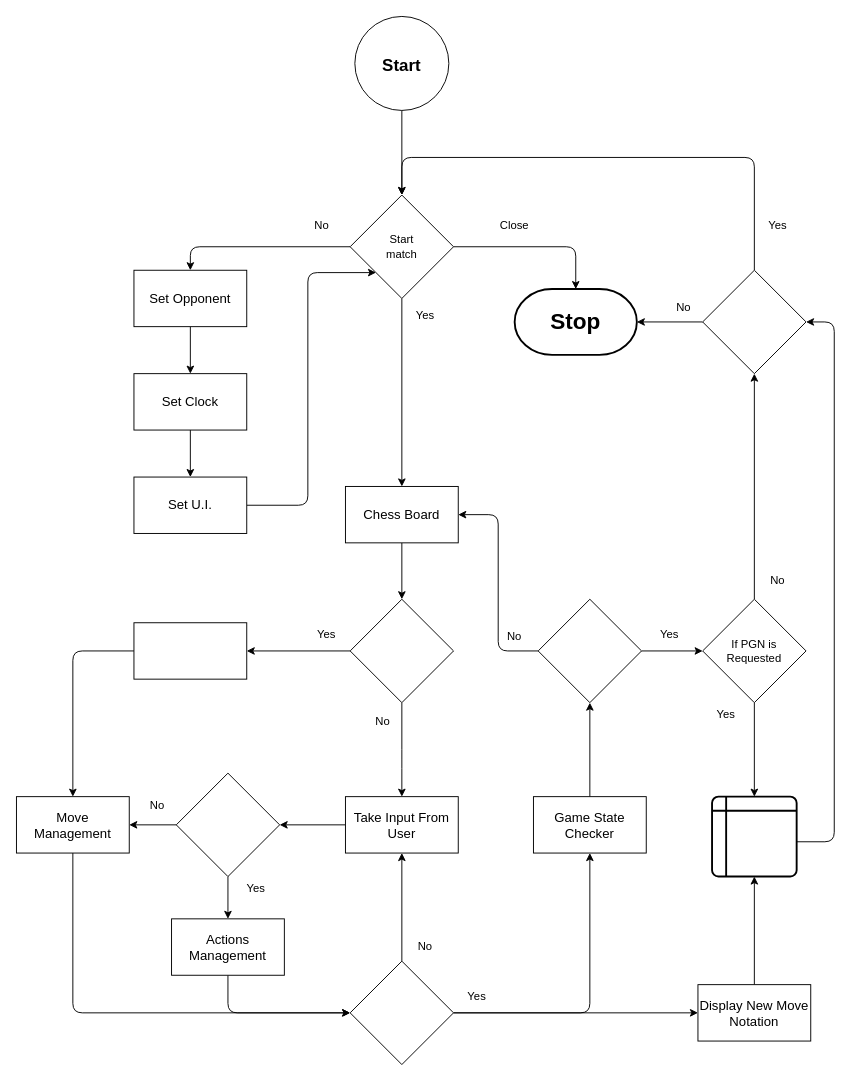
This 858x1081 diagram has some shape labels left out. The shapes that lost their labels are listed below. From the top down, each one's box as (x1, y1, x2, y2) in pixels, then its label:
(702, 269, 806, 374): Play Again
(133, 622, 247, 679): A.I.
(349, 598, 454, 703): If Match Against A.I.
(537, 598, 642, 703): If Match Ended
(175, 772, 280, 877): If Input is an Action
(711, 795, 797, 877): Game Report
(349, 960, 454, 1065): If Move/Action is Valid
